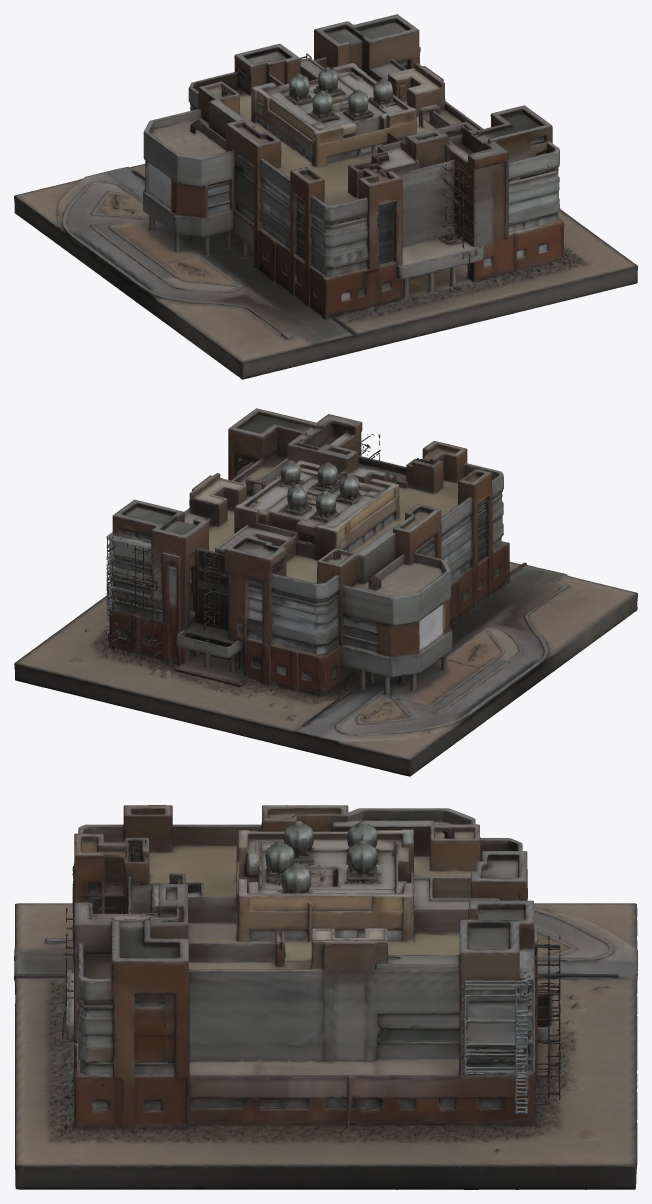
File: matrouh-university-1.glb
3 views of the same model, one above another, from view 1: azimuth 30°, elevation 25°; view 2: azimuth 150°, elevation 25°; view 3: azimuth 270°, elevation 25° (orthographic). The views are drawn at different scales.
Size of the model in its own units: 1 by 0.4036 by 1.
Materials: 1 (1 with a texture image).
